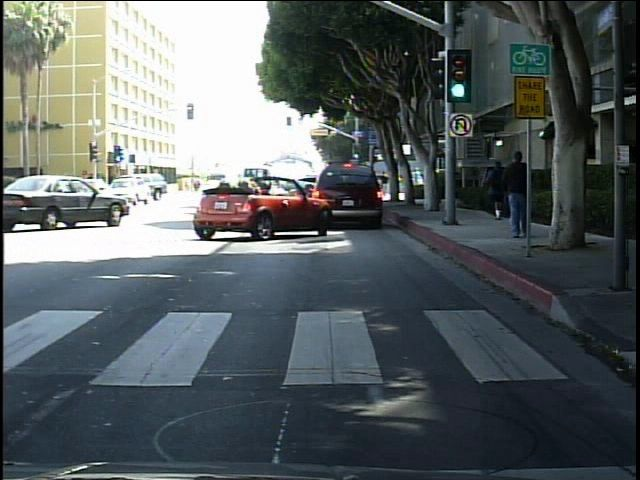person: (501, 141, 530, 238), (488, 157, 510, 222), (412, 165, 425, 186)
